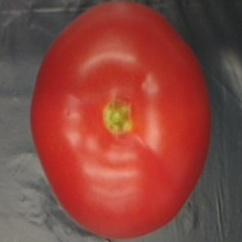unripe: (25, 1, 218, 239)
